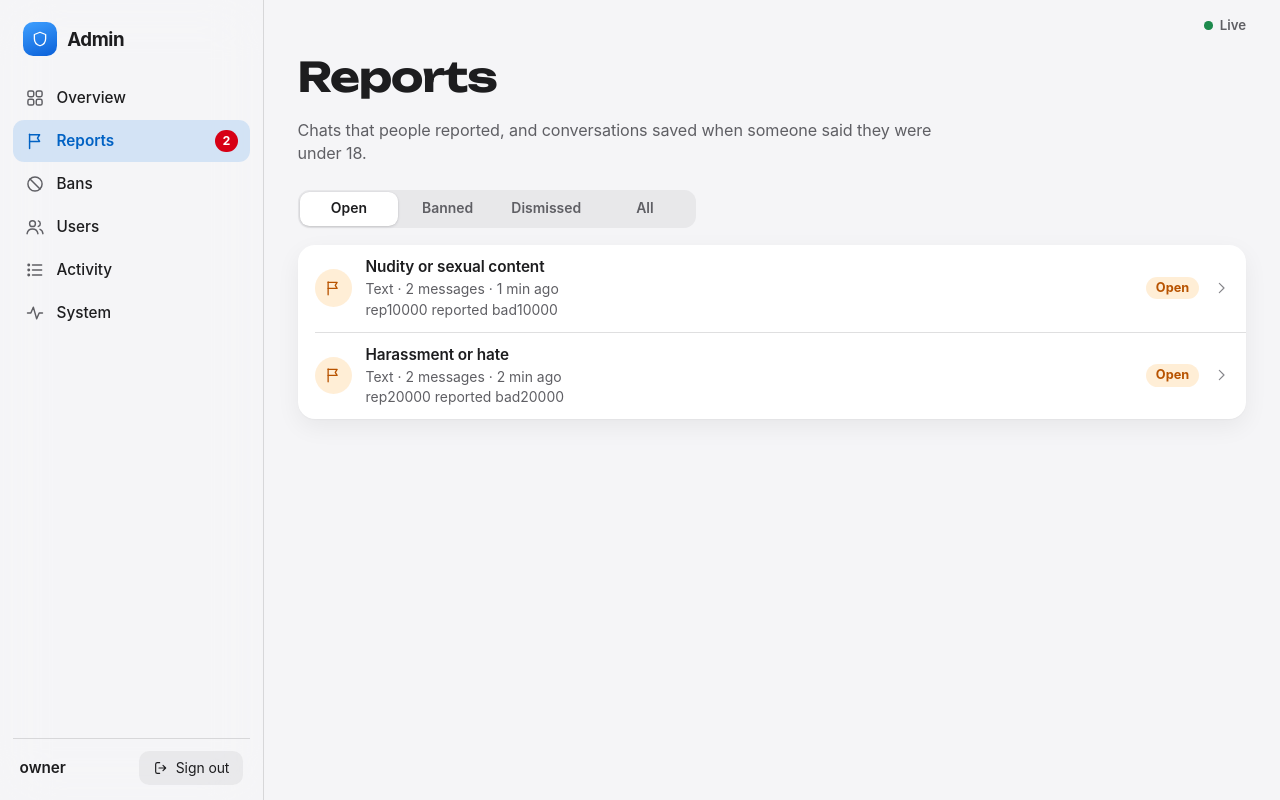
Test: reports › bans for the length chosen, closes the sheet, drops it from the queue, and offers Undo
Click the button "Nudity" at {"x": 333, "y": 288}, box top-left (298, 244), bottom-right (1246, 332)
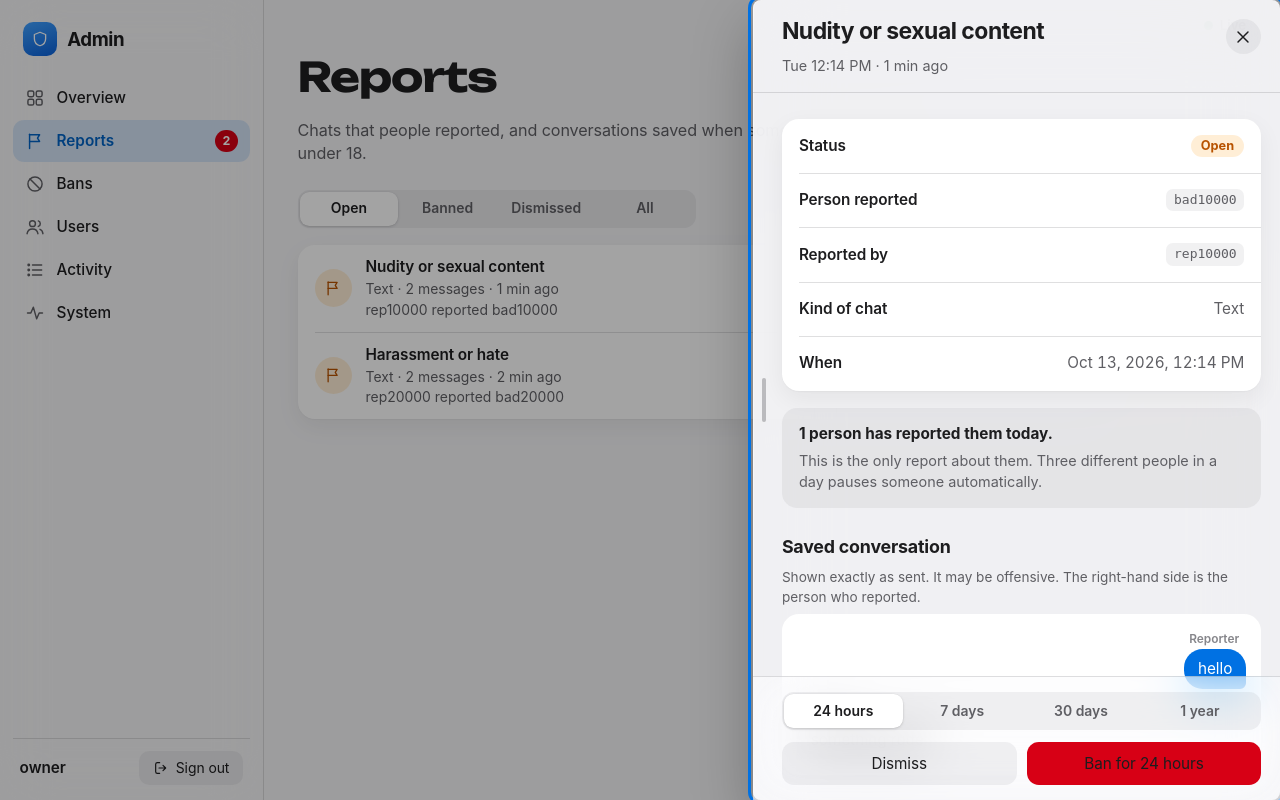
Now the button "Ban for 24 hours" is shown, box top-left (1027, 742), bottom-right (1261, 785)
Click the button "7 days" at {"x": 962, "y": 711}, box top-left (903, 694), bottom-right (1022, 728)
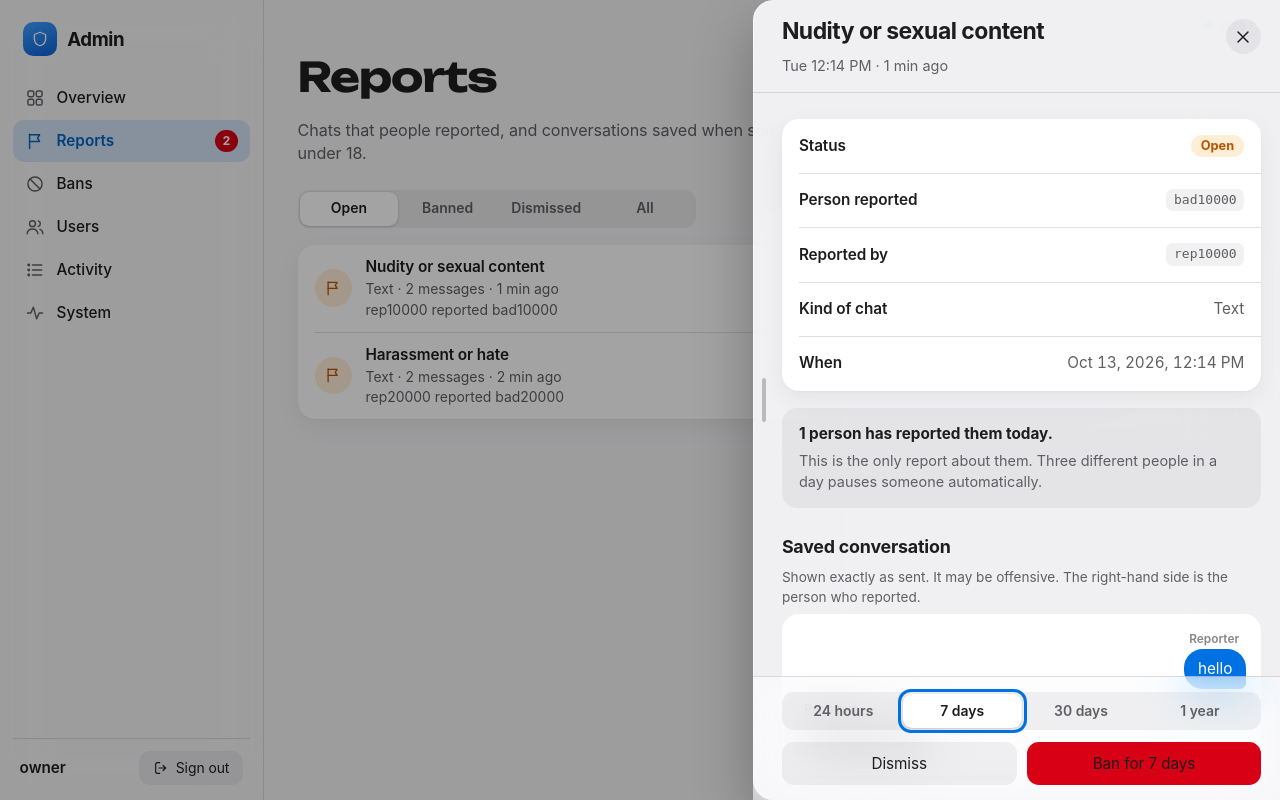
Click the button "Ban for 7 days" at {"x": 1144, "y": 763}, box top-left (1027, 742), bottom-right (1261, 785)
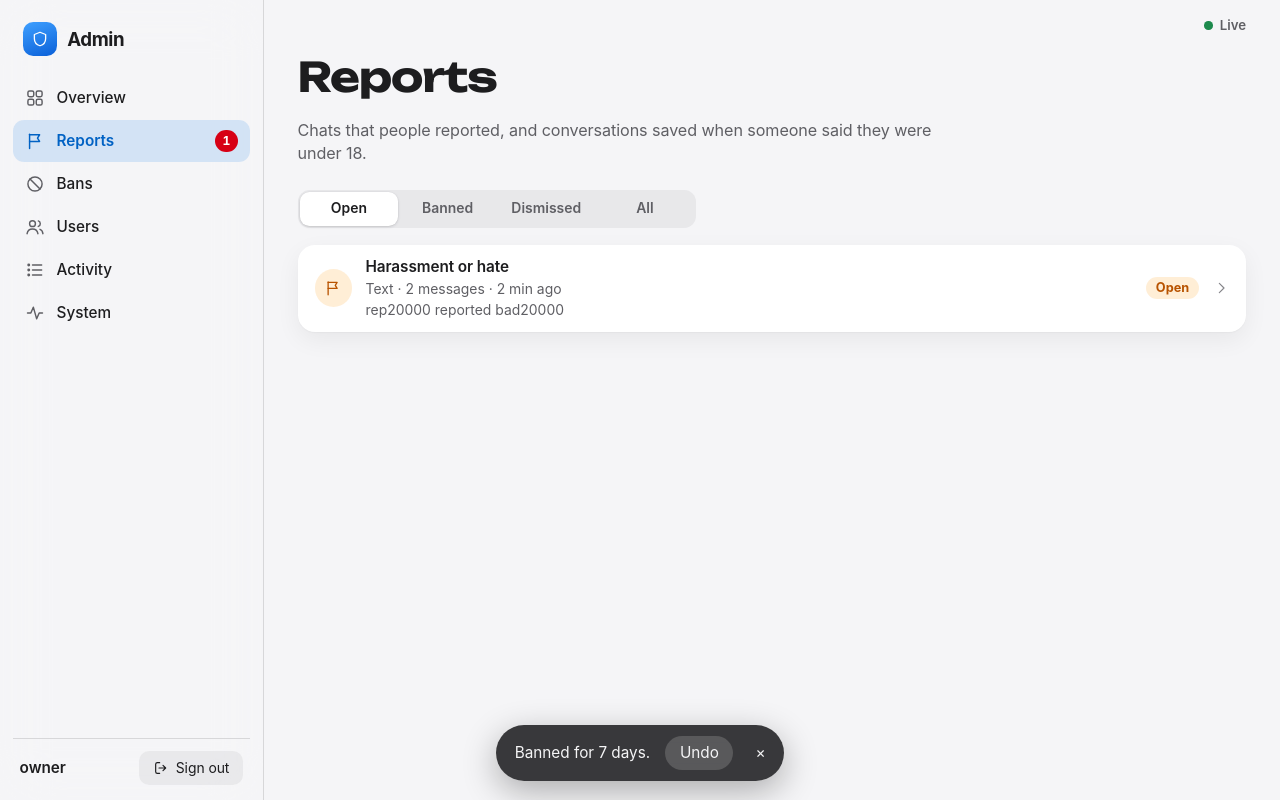
Now the text "Banned for 7 days." is shown, box top-left (515, 742), bottom-right (650, 764)
Now the dialog is gone
Now the number of list items is 1, box top-left (298, 244), bottom-right (1246, 332)
